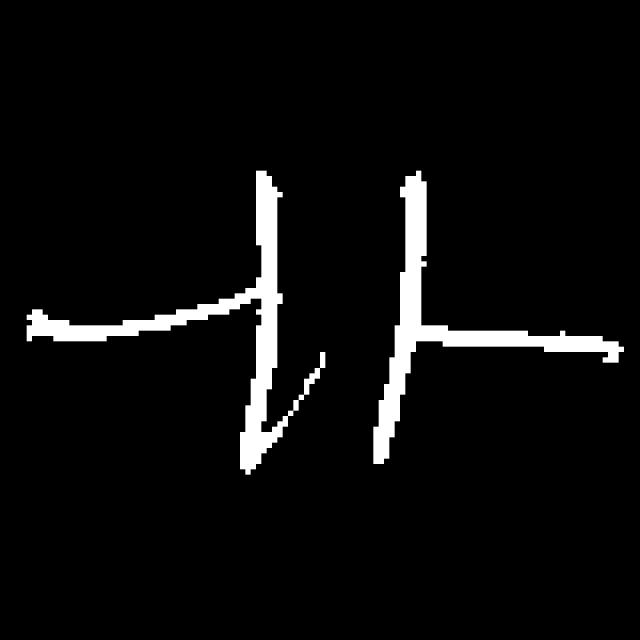capacitor: (235, 163, 437, 486)
